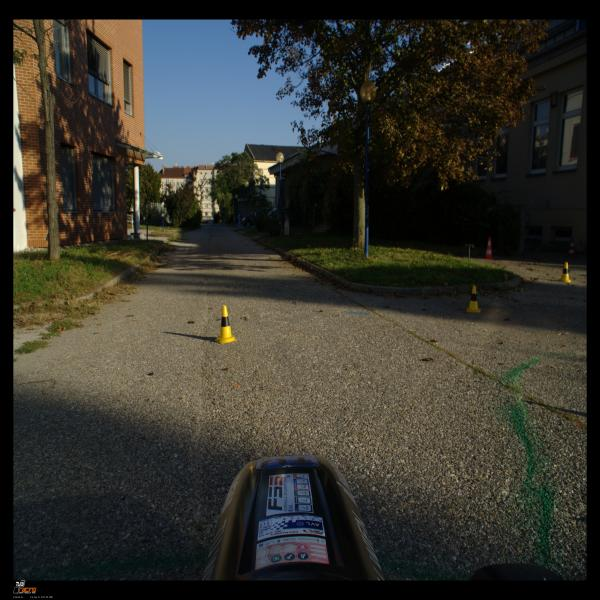large_orange_cone: (565, 238, 578, 260), (483, 236, 494, 260)
yellow_cone: (214, 304, 237, 344), (466, 284, 481, 314), (558, 261, 571, 283)
